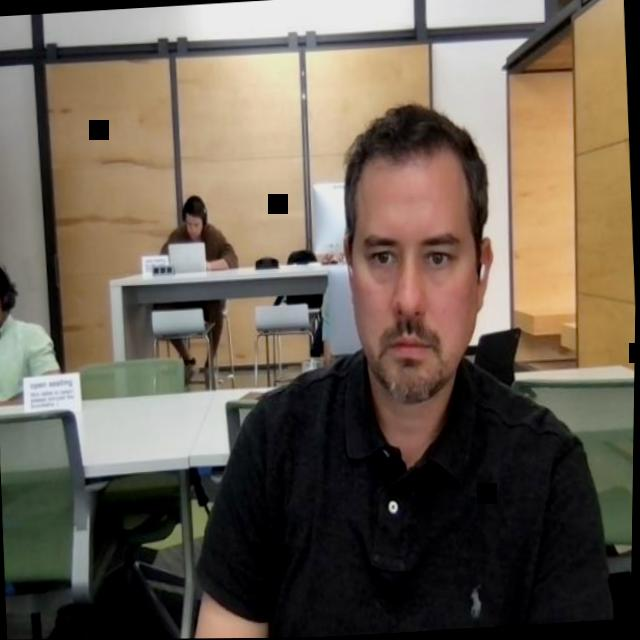NO-Mask: (340, 103, 504, 409), (0, 252, 21, 338), (181, 194, 213, 247)
